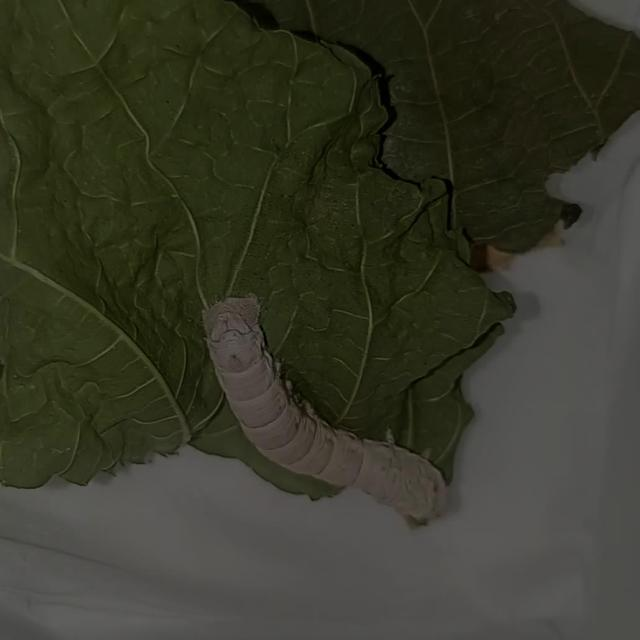Healthy: (139, 263, 492, 574)
